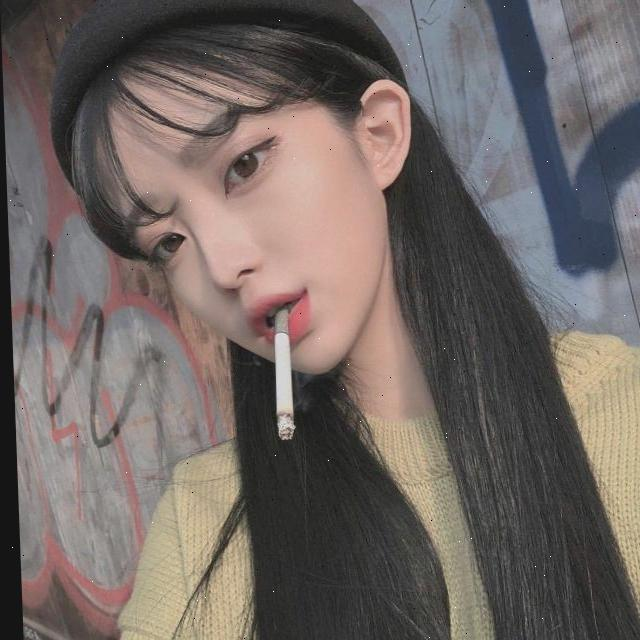cigarette: (269, 306, 293, 442)
